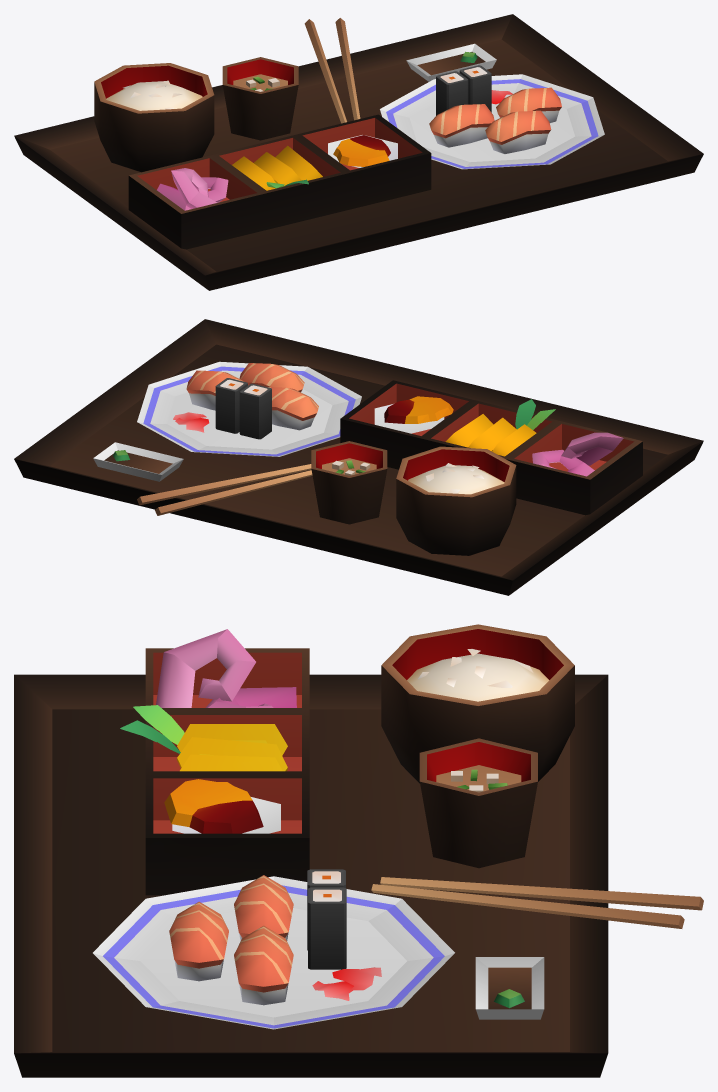
File: SK_Food_001.FBX
3 renders of one model, top to bottom at view 1: azimuth 30°, elevation 25°; view 2: azimuth 150°, elevation 25°; view 3: azimuth 270°, elevation 25°, orthographic. The views are drawn at different scales.
Parts seen in each view (by area): view 1: SK_Food_001; view 2: SK_Food_001; view 3: SK_Food_001.
Part boxes in pixels (box(x1,y1,x2,y2)): SK_Food_001: box(14, 14, 703, 290); SK_Food_001: box(14, 319, 703, 595); SK_Food_001: box(14, 624, 703, 1077).
Size of the model in its own units: 52.41 by 7.39 by 40.35.
1 material, 1 textured.
